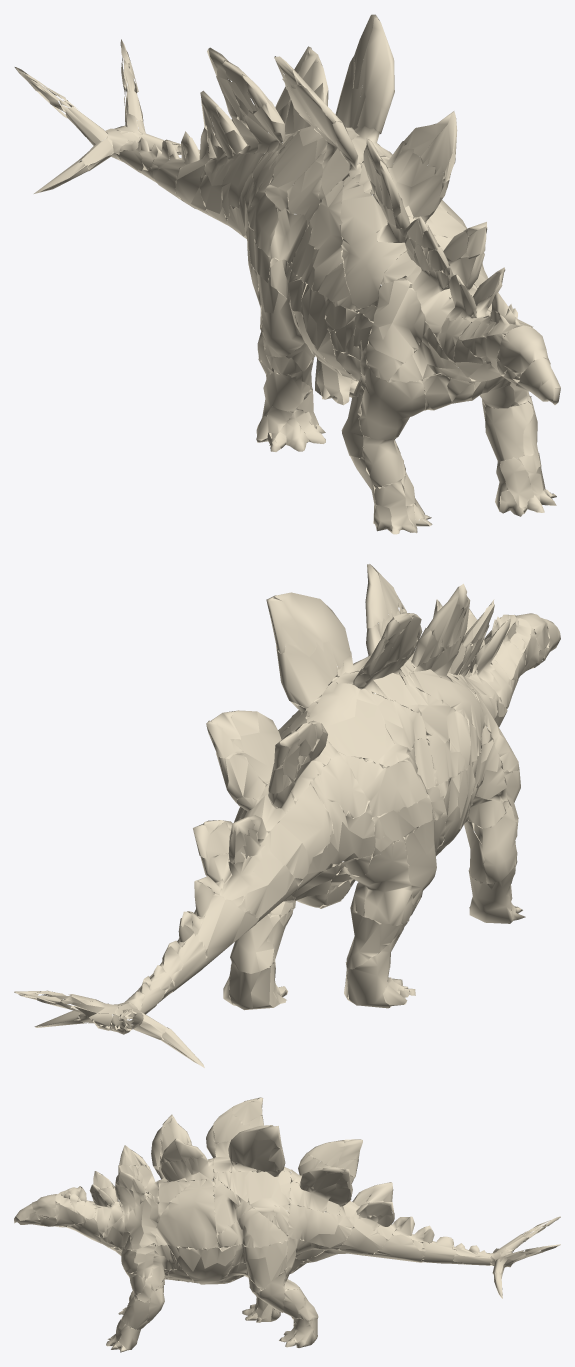
The model's file is stegosaurus_skeleton.glb.
3 views of the same model, one above another, from view 1: azimuth 30°, elevation 25°; view 2: azimuth 150°, elevation 25°; view 3: azimuth 270°, elevation 25° (orthographic). The views are drawn at different scales.
Parts seen in each view (by area): view 1: leg_l__part, torso__part.001, torso__part, plates__part, skull__part, leg_r__part, tail__part; view 2: torso__part.001, torso__part, leg_l__part, plates__part, tail__part, skull__part, leg_r__part; view 3: torso__part.001, torso__part, leg_r__part, plates__part, skull__part, tail__part, leg_l__part.
Boxes of the visible parts, x1,y1,x2,y2 form: leg_l__part: [16, 68, 459, 534]; torso__part.001: [222, 86, 483, 424]; torso__part: [14, 39, 506, 433]; plates__part: [207, 14, 487, 244]; skull__part: [379, 230, 560, 404]; leg_r__part: [121, 51, 556, 516]; tail__part: [105, 90, 274, 219]; torso__part.001: [225, 642, 493, 1007]; torso__part: [14, 600, 509, 1040]; leg_l__part: [119, 742, 525, 1067]; plates__part: [206, 564, 494, 774]; tail__part: [78, 815, 283, 1034]; skull__part: [385, 609, 560, 796]; leg_r__part: [18, 729, 431, 1027]; torso__part.001: [145, 1163, 352, 1322]; torso__part: [87, 1143, 560, 1335]; leg_r__part: [104, 1240, 558, 1352]; plates__part: [117, 1097, 362, 1181]; skull__part: [14, 1165, 144, 1272]; tail__part: [353, 1182, 519, 1267]; leg_l__part: [118, 1216, 560, 1321].
Size of the model in its own units: 0.6942 by 1.44 by 3.3.
